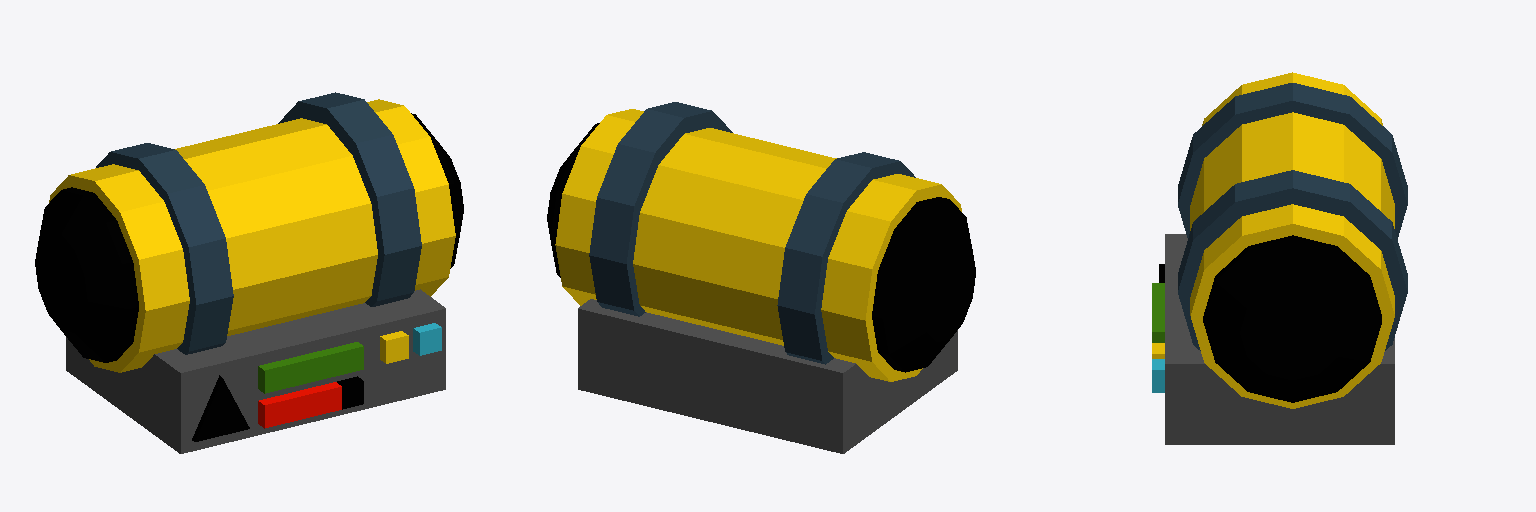
3 views of the same model, side by side, from view 1: azimuth 30°, elevation 25°; view 2: azimuth 150°, elevation 25°; view 3: azimuth 270°, elevation 25° (orthographic).
Visible parts, largest first — view 1: group[number redacted]; view 2: group[number redacted]; view 3: group[number redacted].
Boxes of the visible parts, x1,y1,x2,y2 form: group[number redacted]: [35, 92, 463, 453]; group[number redacted]: [547, 102, 975, 453]; group[number redacted]: [1152, 72, 1407, 444].
Size of the model in its own units: 0.34 by 0.2138 by 0.2.